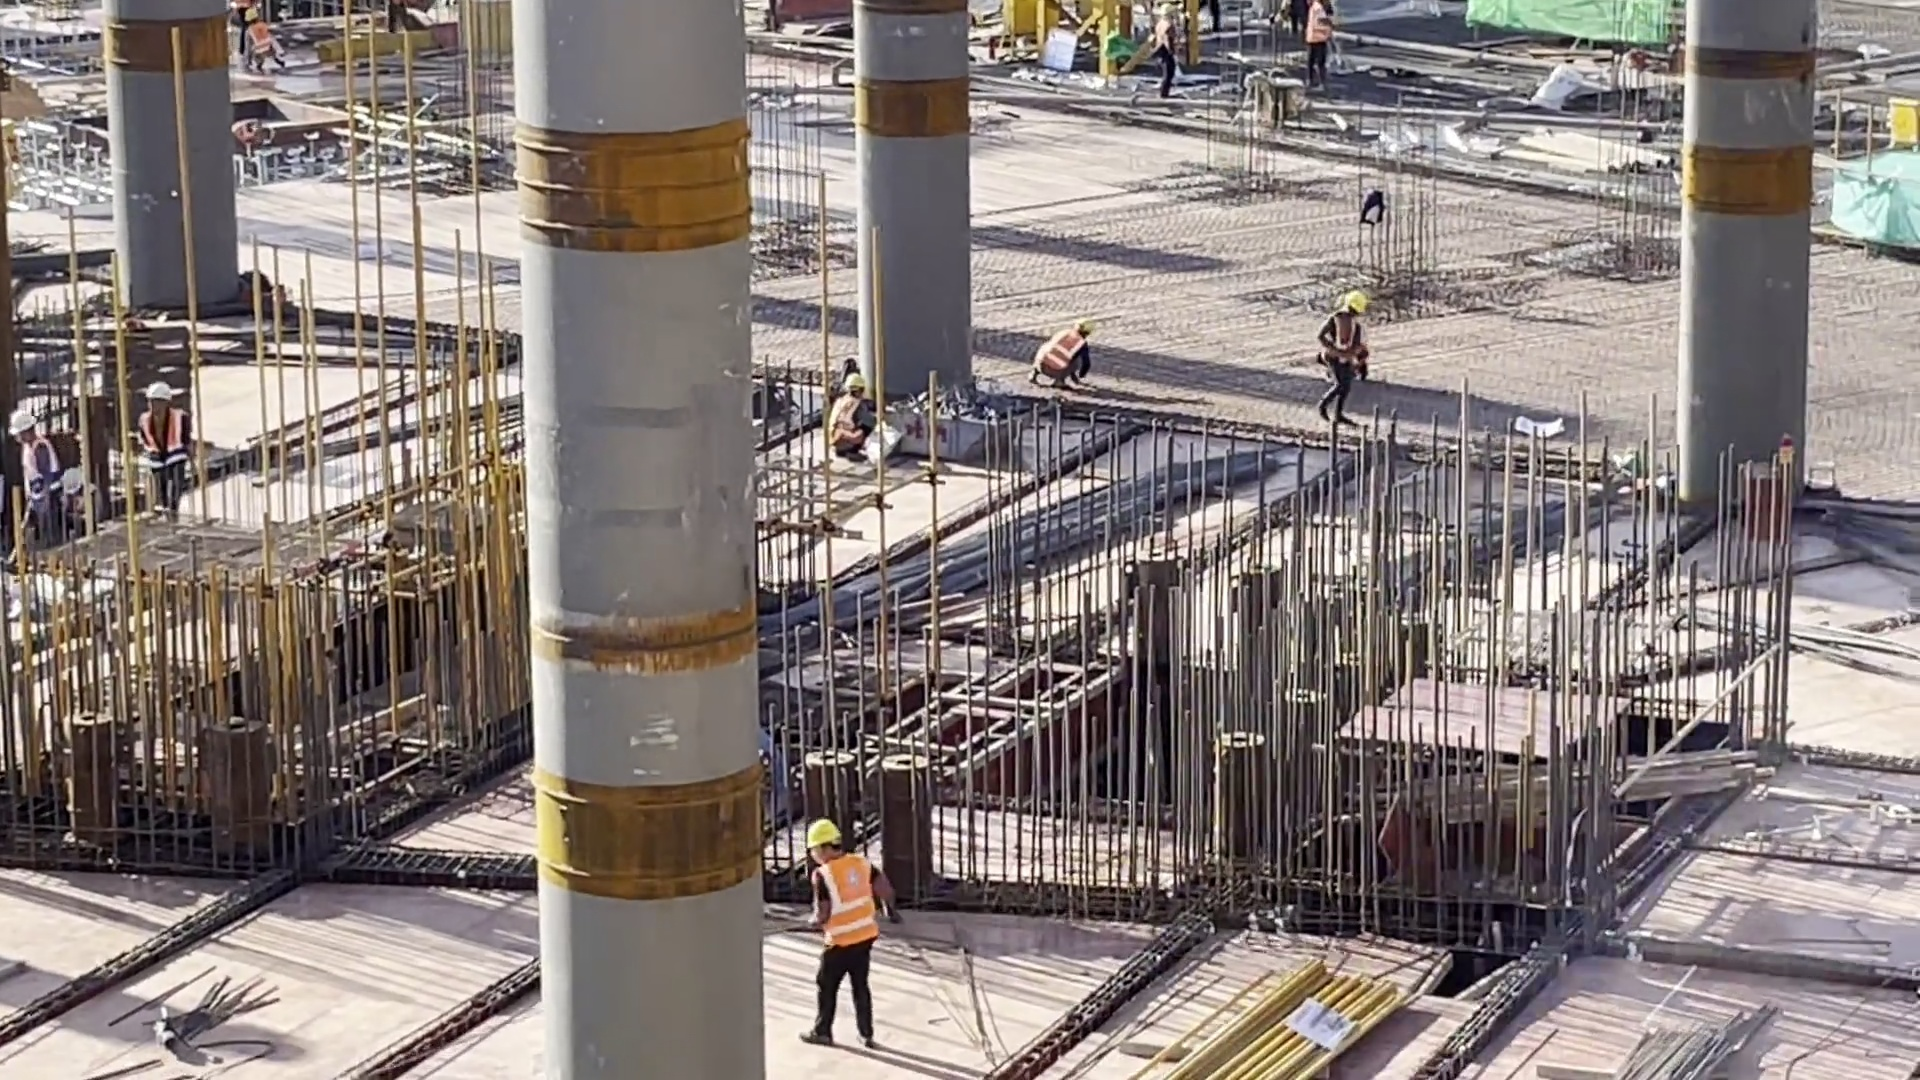ebox: (1886, 87, 1920, 146)
helmet: (801, 813, 850, 859), (9, 404, 39, 433), (144, 376, 172, 407), (1342, 286, 1368, 318), (842, 367, 865, 397), (1074, 313, 1094, 335)
hopper: (870, 378, 1048, 474)
person: (784, 820, 882, 1052), (124, 369, 204, 523), (1310, 275, 1379, 415), (1, 409, 56, 546), (230, 16, 315, 74), (1143, 9, 1193, 104), (1033, 307, 1092, 385), (831, 365, 876, 467), (1294, 1, 1340, 96)
vest: (805, 864, 879, 957), (135, 411, 193, 475), (18, 439, 70, 497), (1295, 1, 1331, 56), (1330, 313, 1367, 364), (1041, 326, 1078, 372), (839, 407, 861, 441)
